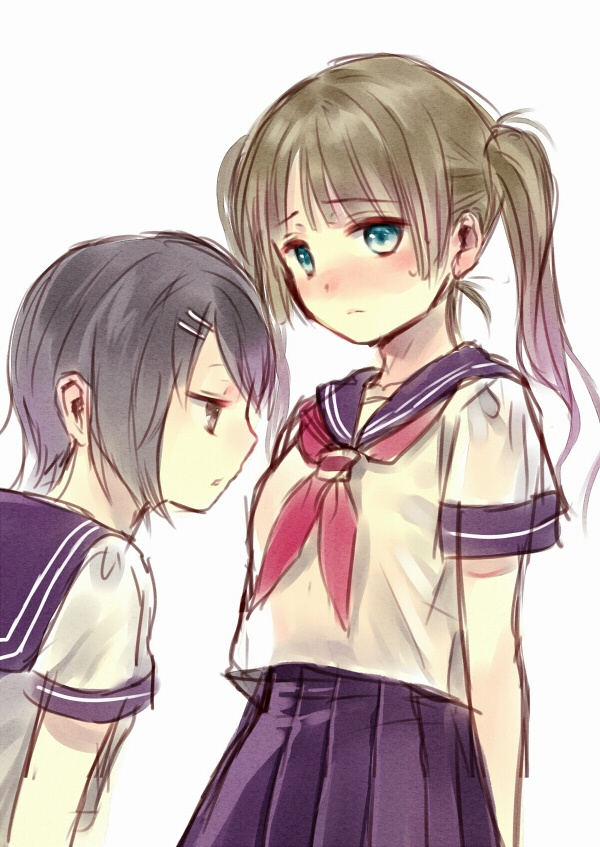纸片人正脸: (212, 49, 551, 355)
